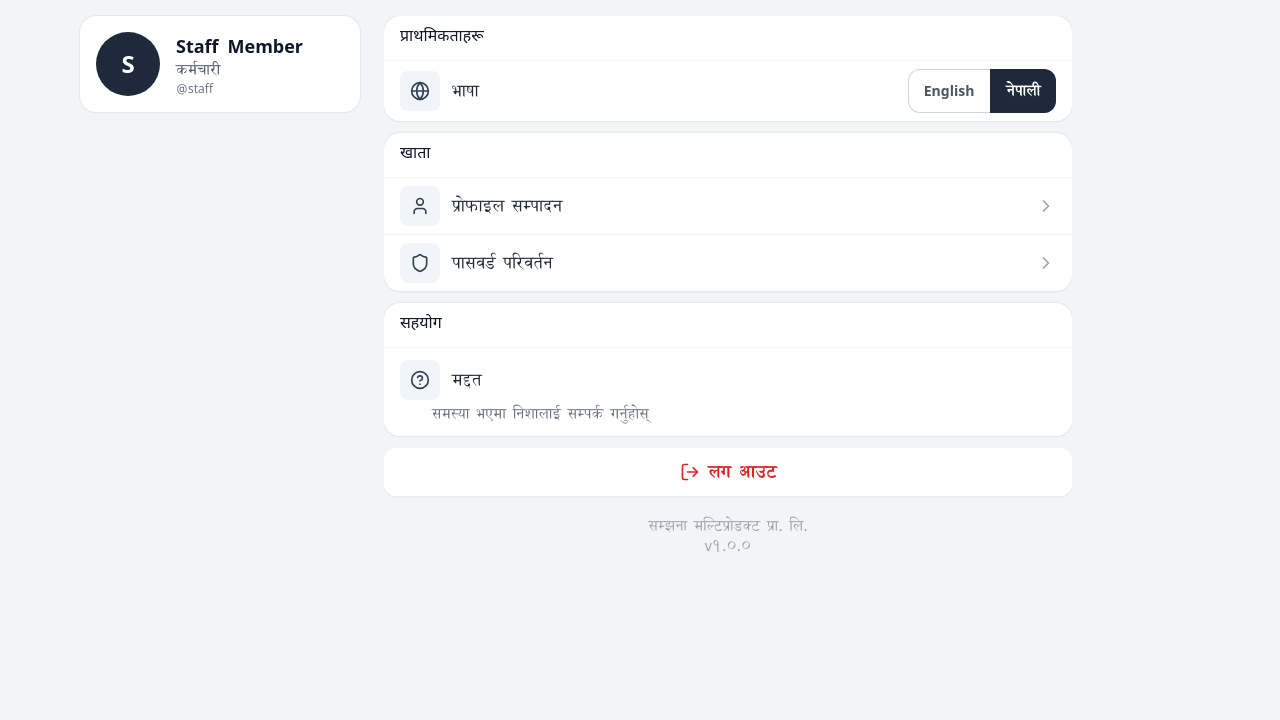
SettingsPage change password › states the 8-character rule in Nepali with a Devanagari numeral
Click the button "पासवर्ड परिवर्तन". click: (420, 263)
box: x1=384 y1=234 x2=1072 y2=291
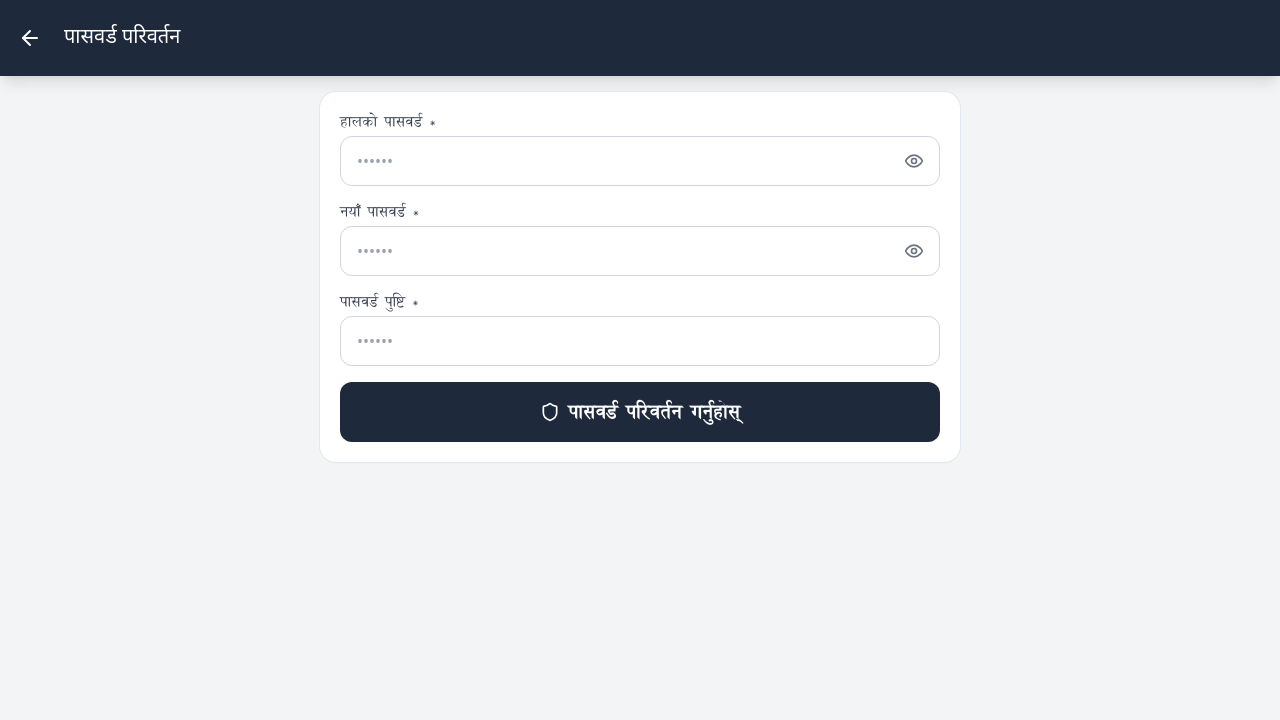
Type "old-pass-123" into the password field with placeholder "••••••" below "हालको पासवर्ड". click: (640, 161)
box: x1=340 y1=136 x2=940 y2=186
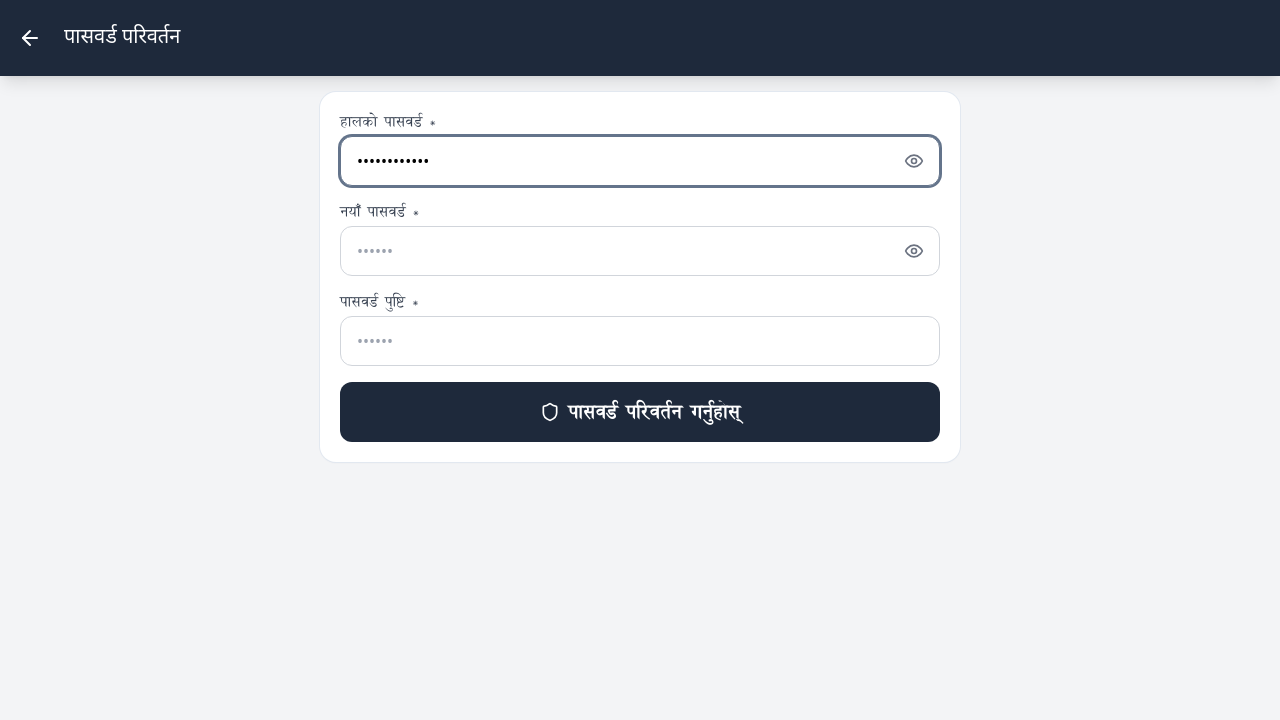
Type "1234567" into the password field with placeholder "••••••" below "नयाँ पासवर्ड". click: (640, 251)
box: x1=340 y1=226 x2=940 y2=276
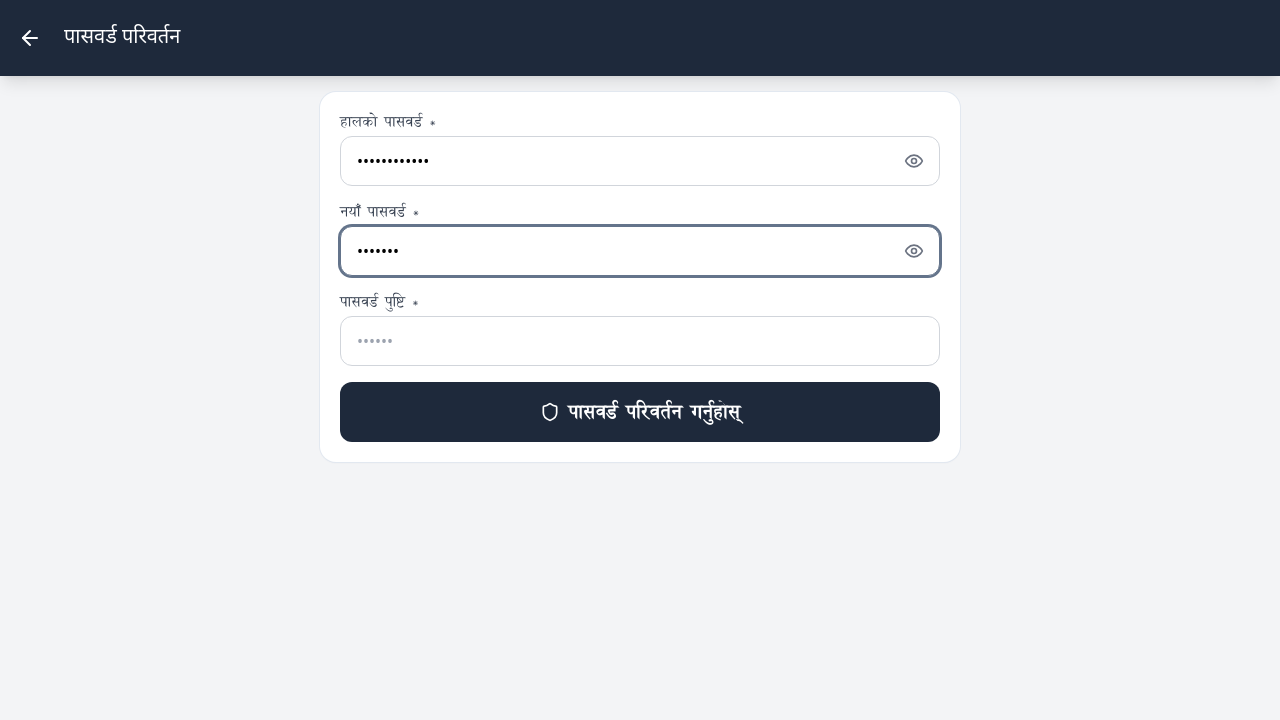
Type "1234567" into the password field with placeholder "••••••". click: (640, 341)
box: x1=340 y1=316 x2=940 y2=366
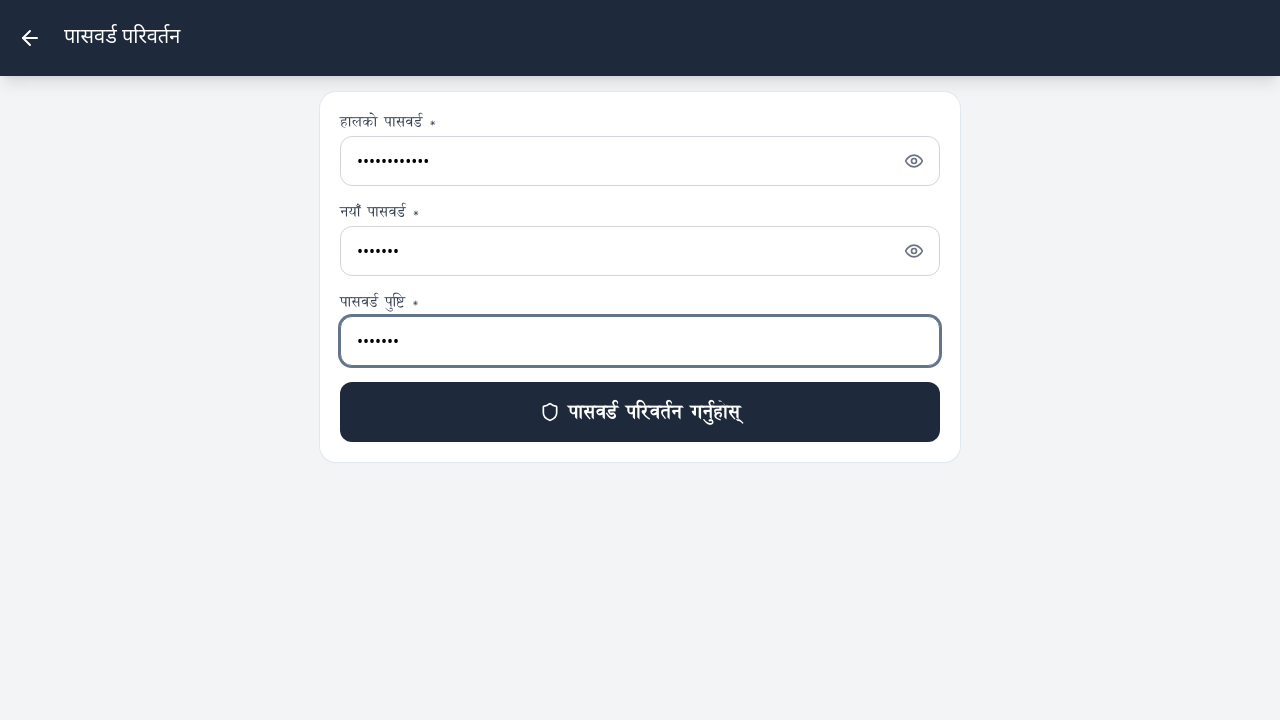
Click the button "पासवर्ड परिवर्तन गर्नुहोस्". click: (640, 412)
box: x1=340 y1=382 x2=940 y2=442
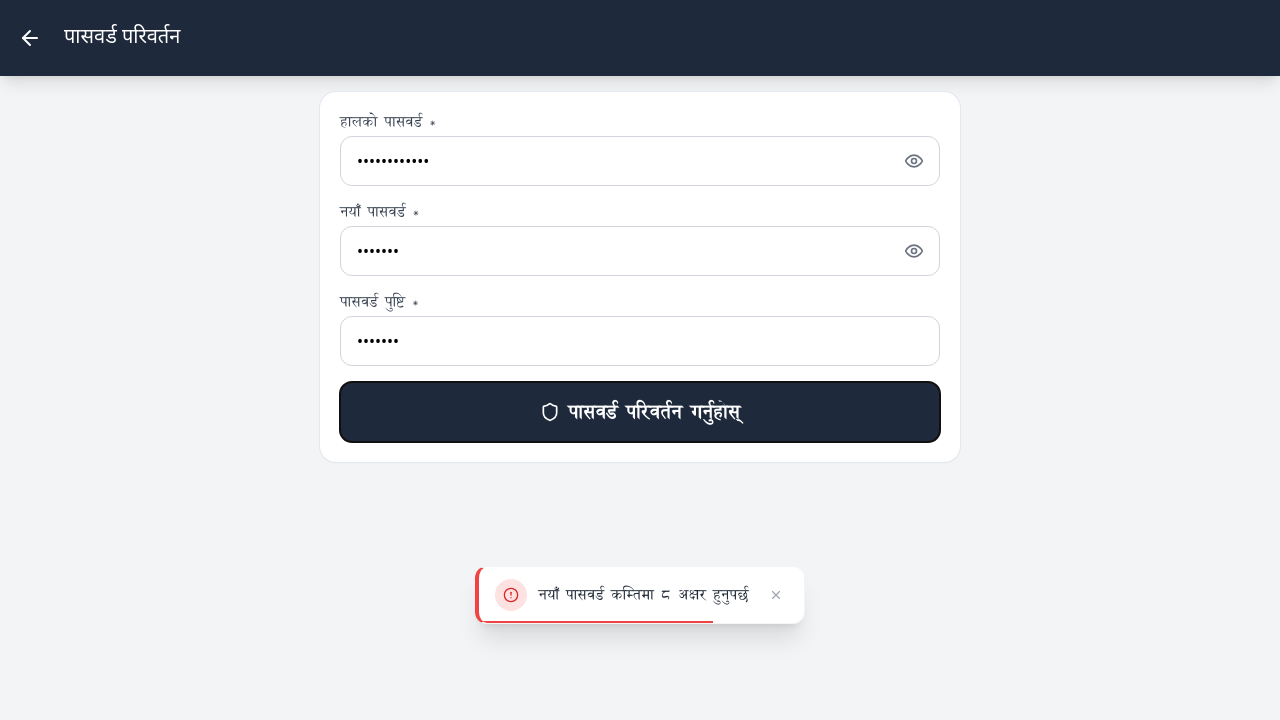
Expected: the text "नयाँ पासवर्ड कम्तिमा ८ अक्षर हुनुपर्छ" is shown, x1=538 y1=585 x2=752 y2=605
